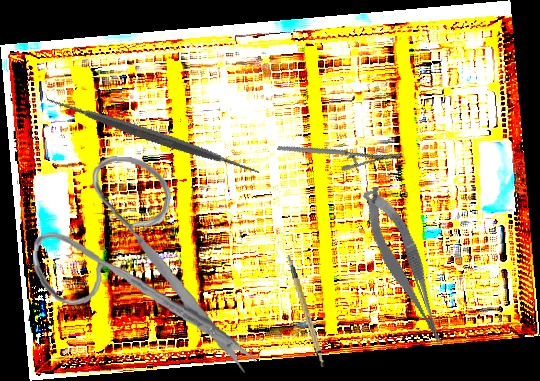Iris Scissors: (26, 151, 273, 374)
Micro Scissor: (357, 180, 451, 355)
Needle Holder: (276, 108, 402, 195)
Scalpel Handle: (286, 251, 328, 370)
Spatula Surgical: (42, 24, 264, 247)
